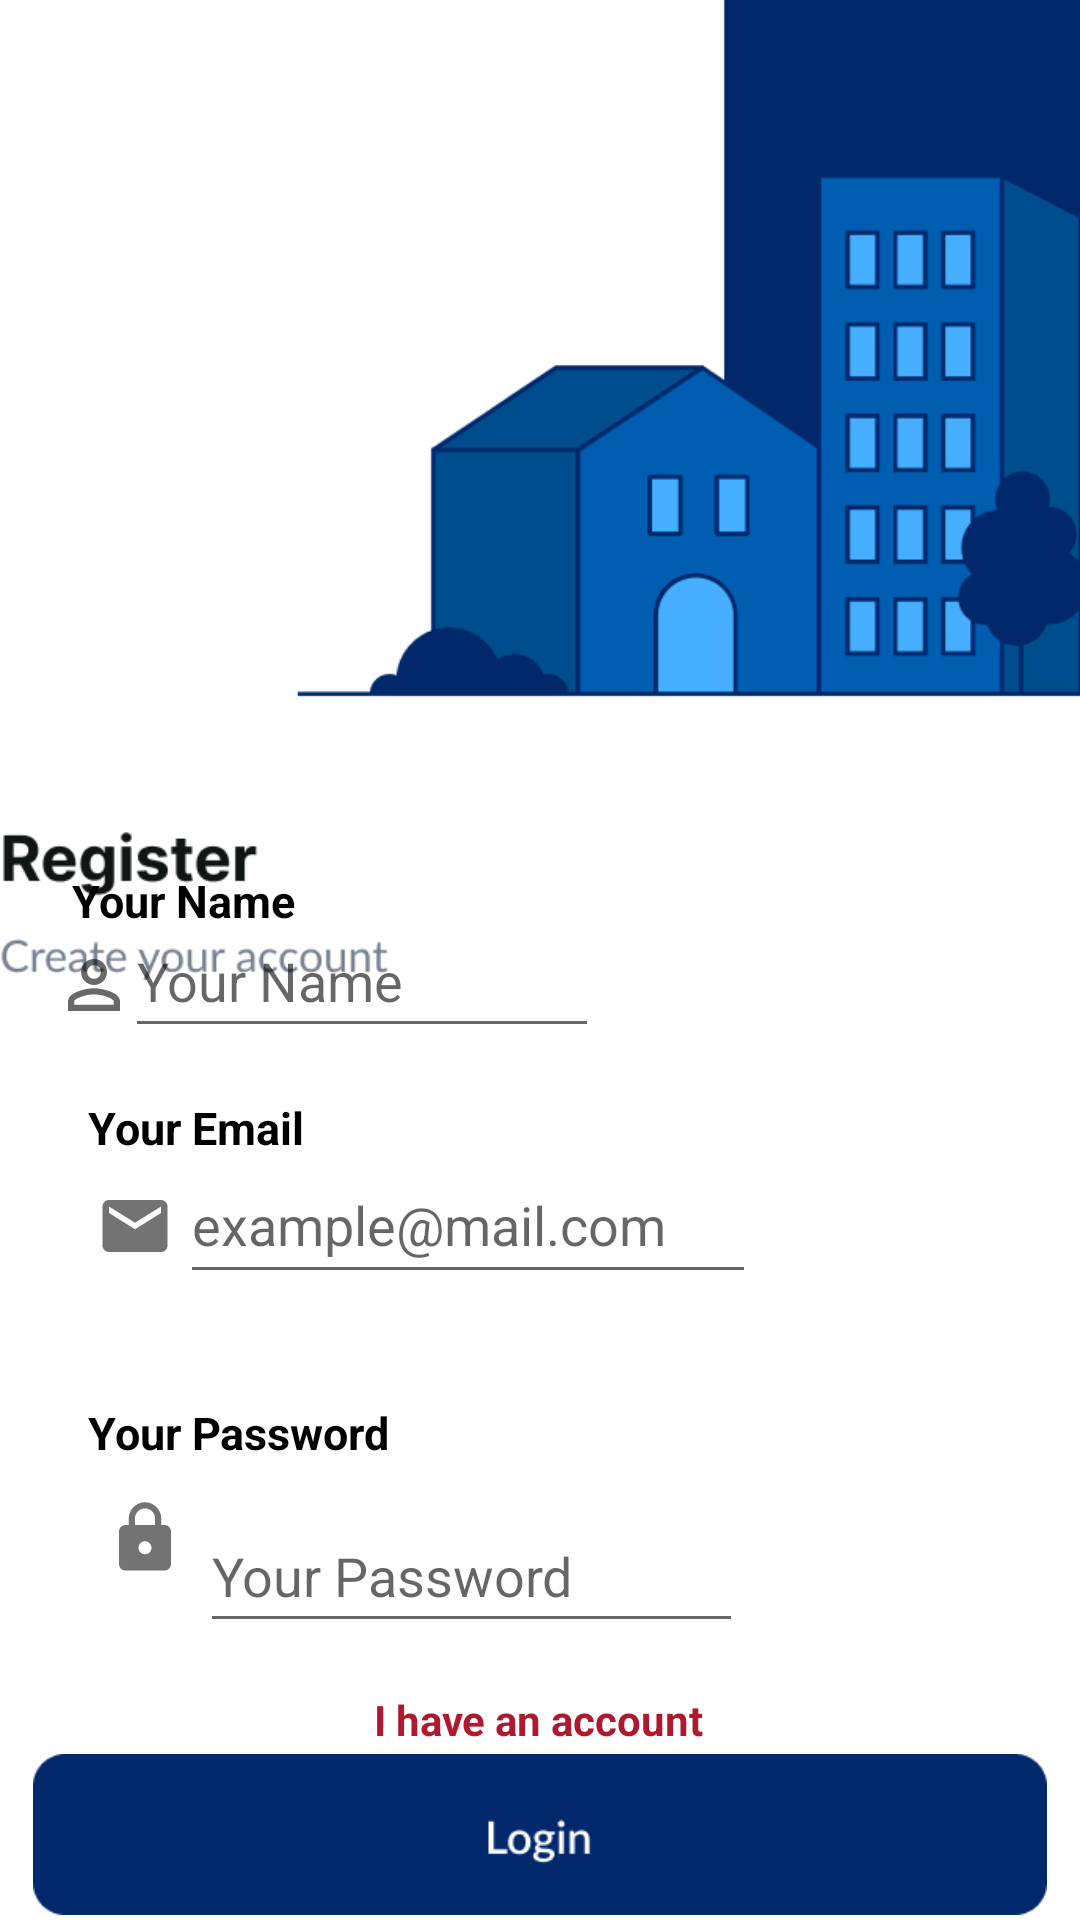

Screen size 1080px×1920px. Icon name, then its center in pixels as [x,y]:
mylock: [145,1536]
mymail: [135,1226]
mypp: [88,978]
